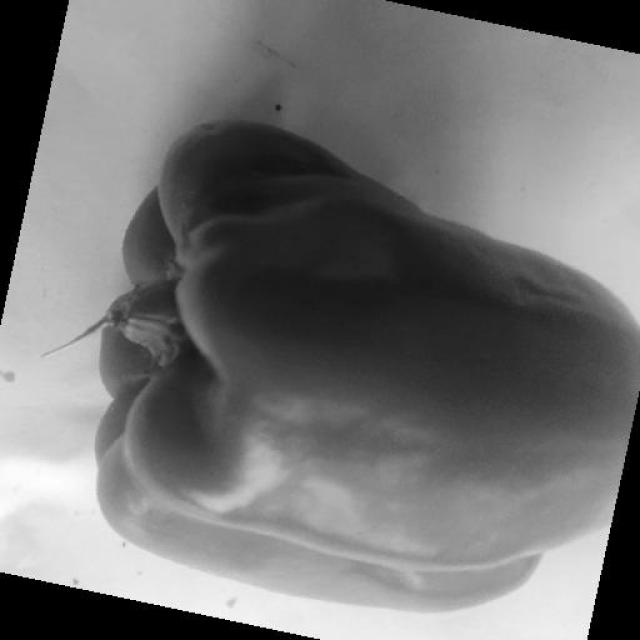Fresh_Capsicum: (129, 136, 570, 640)
